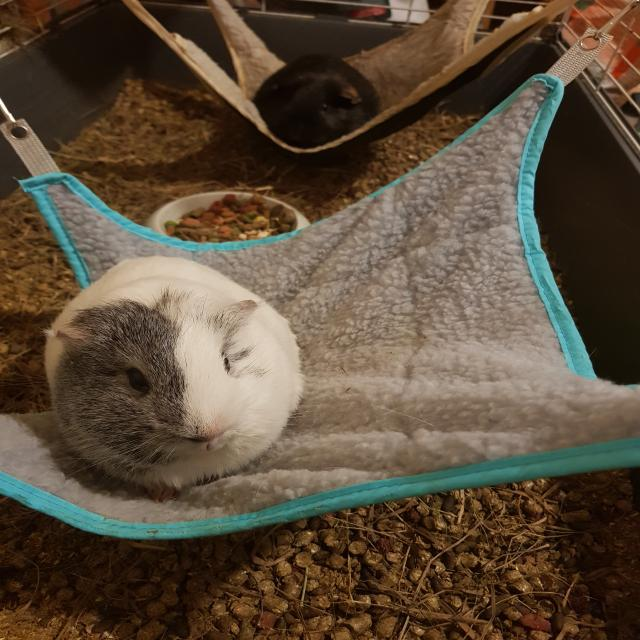guinea pig: (42, 254, 306, 504), (246, 50, 383, 157)
